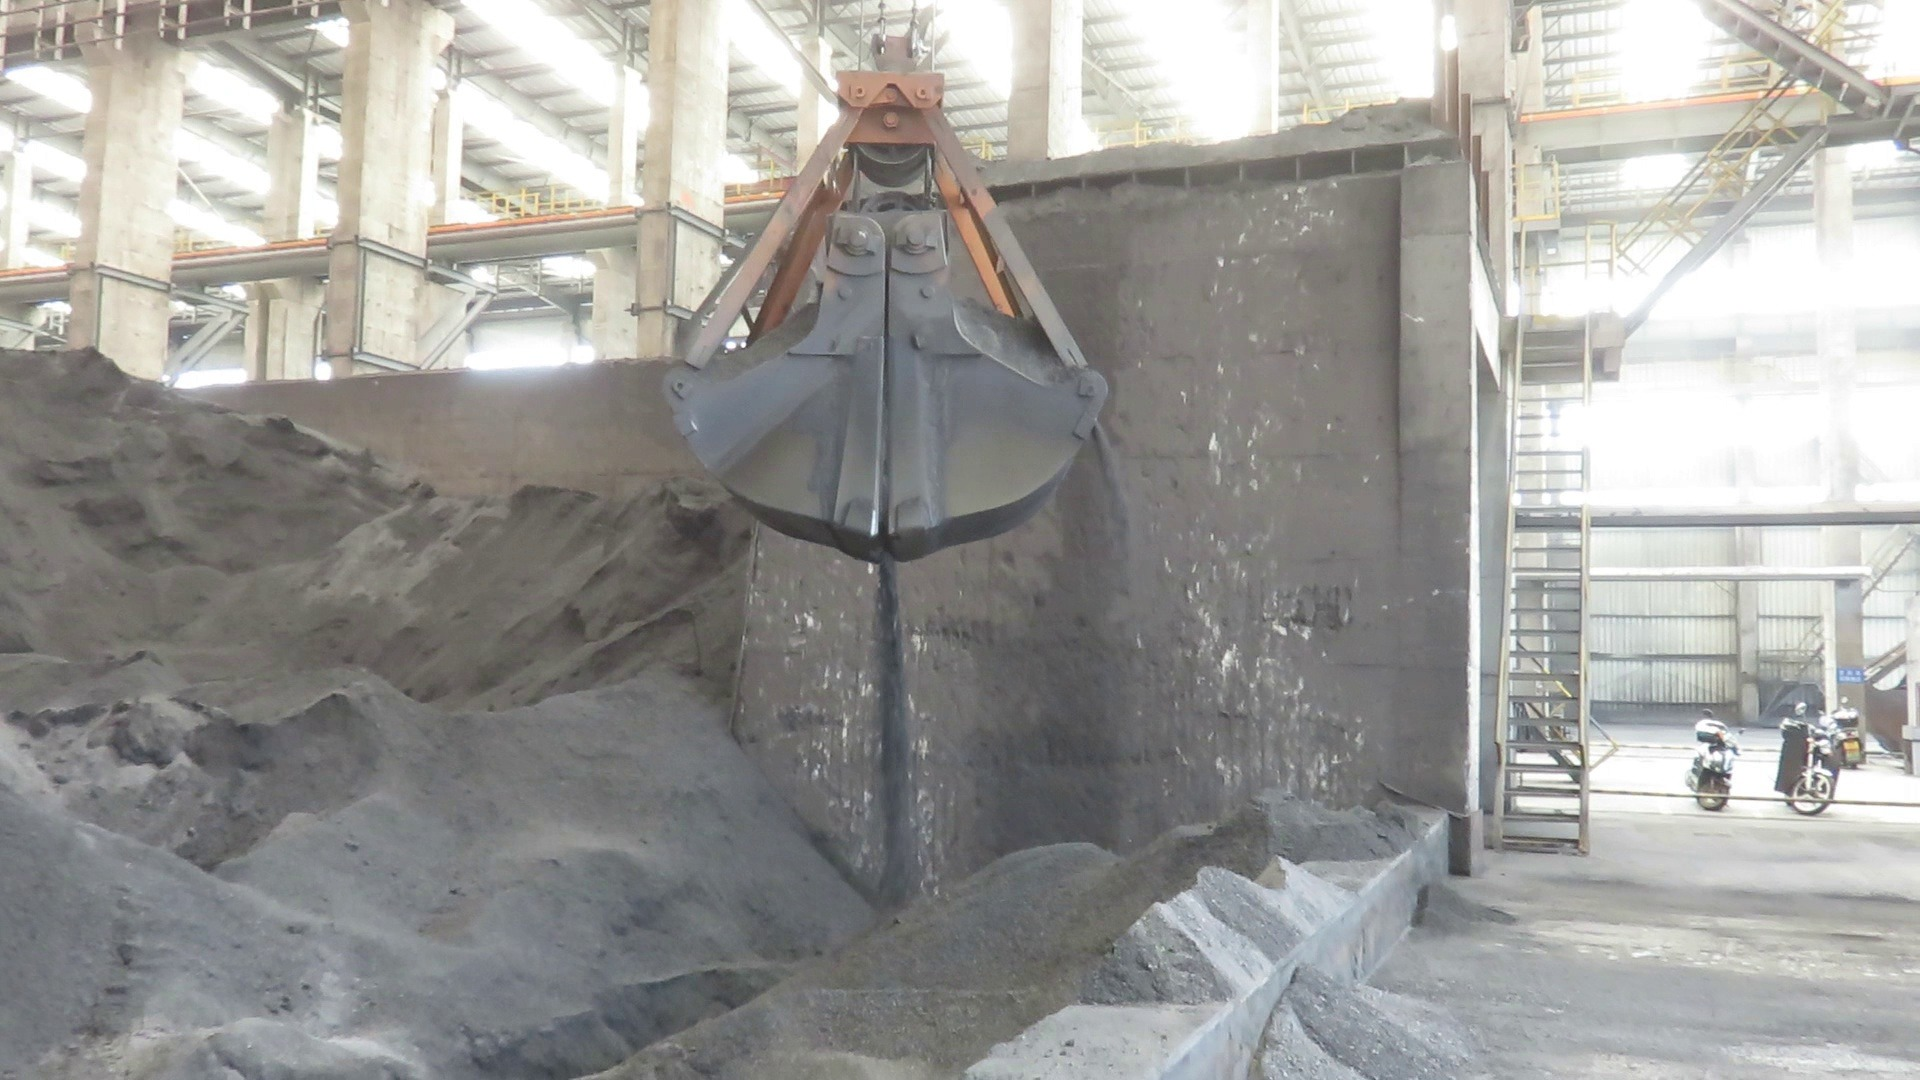grab: (653, 28, 1110, 556)
